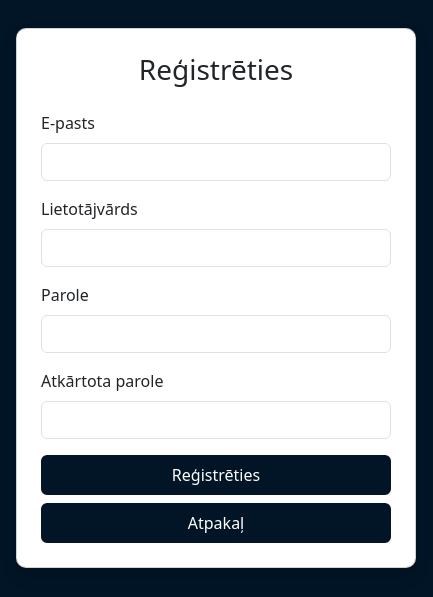
Scenario: Register › [LM1_T1] ERR1 - Nederīgs e-pasta formāts
Type "invalid-email" into the field named "email" at coordinates (216, 162), box [41,143,391,181]
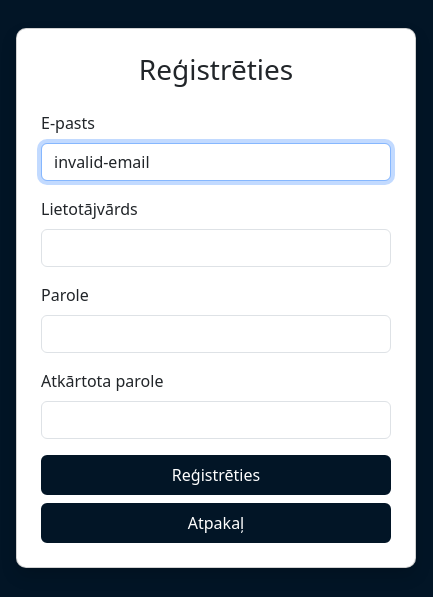
Type "validuser" into the field named "username" at coordinates (216, 248), box [41,229,391,267]
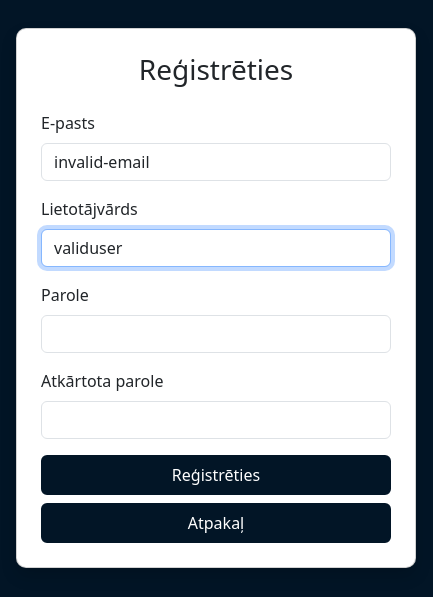
Type "ValidPassword123!" into the password field named "password" at coordinates (216, 334), box [41,315,391,353]
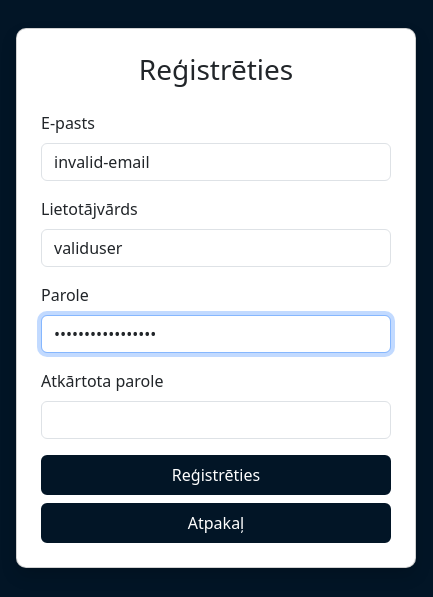
Type "ValidPassword123!" into the password field named "repeatPassword" at coordinates (216, 420), box [41,401,391,439]
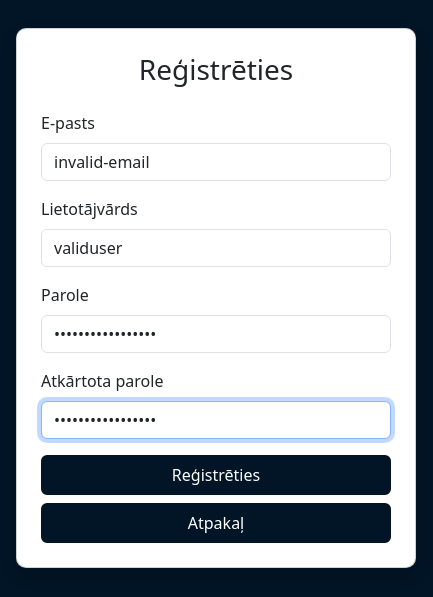
Click the submit button at coordinates (216, 475), box [41,455,391,495]
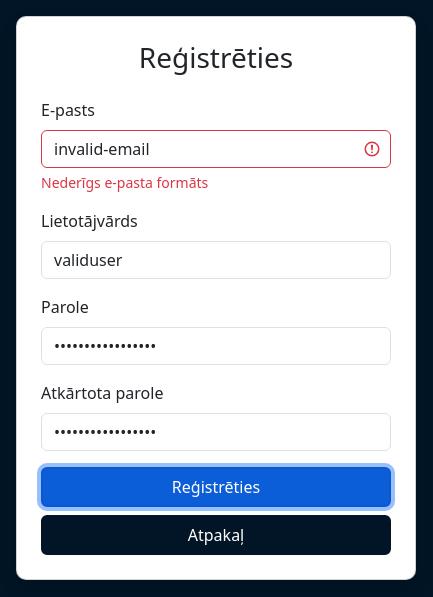
expect the text with class "invalid-feedback" reads "Nederīgs e-pasta formāts": met, box [41,173,208,192]
